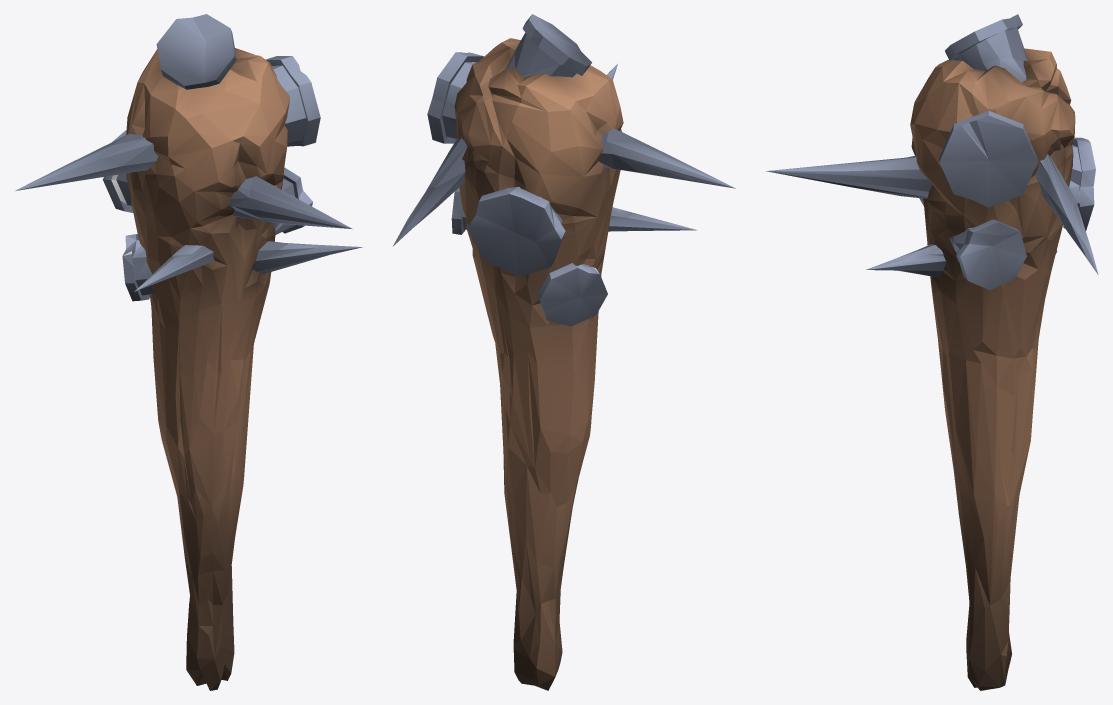
The model's file is epic_SpikedClub.fbx.
3 views of the same model, side by side, from view 1: azimuth 30°, elevation 25°; view 2: azimuth 150°, elevation 25°; view 3: azimuth 270°, elevation 25° (orthographic).
Visible parts, largest first — view 1: epic_SpikedClub_mesh; view 2: epic_SpikedClub_mesh; view 3: epic_SpikedClub_mesh.
Part boxes in pixels (x1,y1,x2,y2): epic_SpikedClub_mesh: (15, 14, 362, 690); epic_SpikedClub_mesh: (393, 14, 735, 690); epic_SpikedClub_mesh: (765, 14, 1098, 690).
Size of the model in its own units: 0.6801 by 1.5 by 0.6764.
